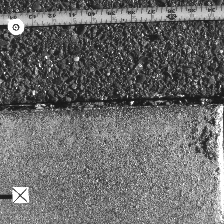circle: (7, 18, 24, 36)
crack: (1, 94, 223, 113)
square: (12, 187, 29, 203)
